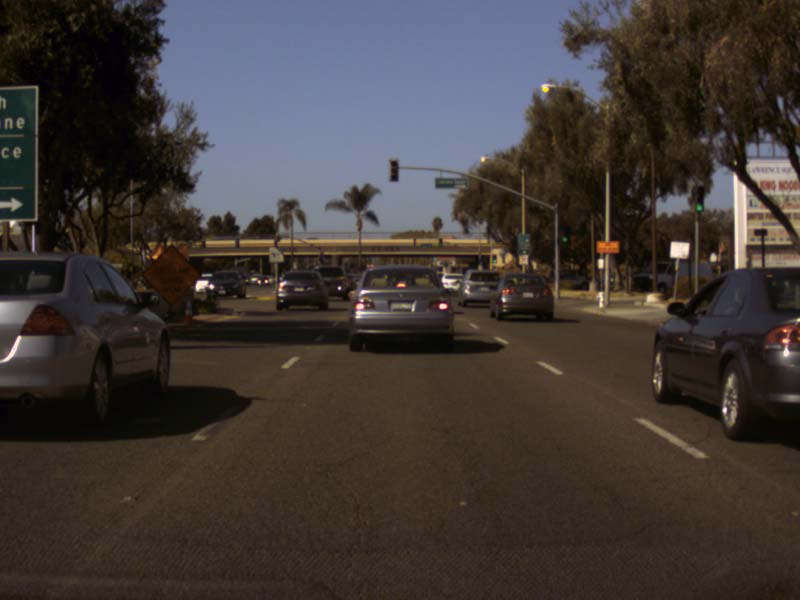Green: (692, 187, 705, 212), (561, 226, 570, 244)
